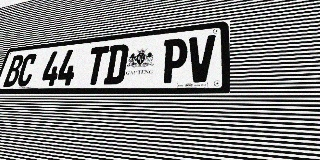4: (55, 49, 80, 86), (40, 51, 64, 86)
B: (3, 55, 25, 87)
C: (15, 53, 38, 87)
D: (103, 44, 129, 85)
P: (160, 37, 188, 83)
T: (84, 46, 110, 85)
V: (186, 35, 216, 83)
